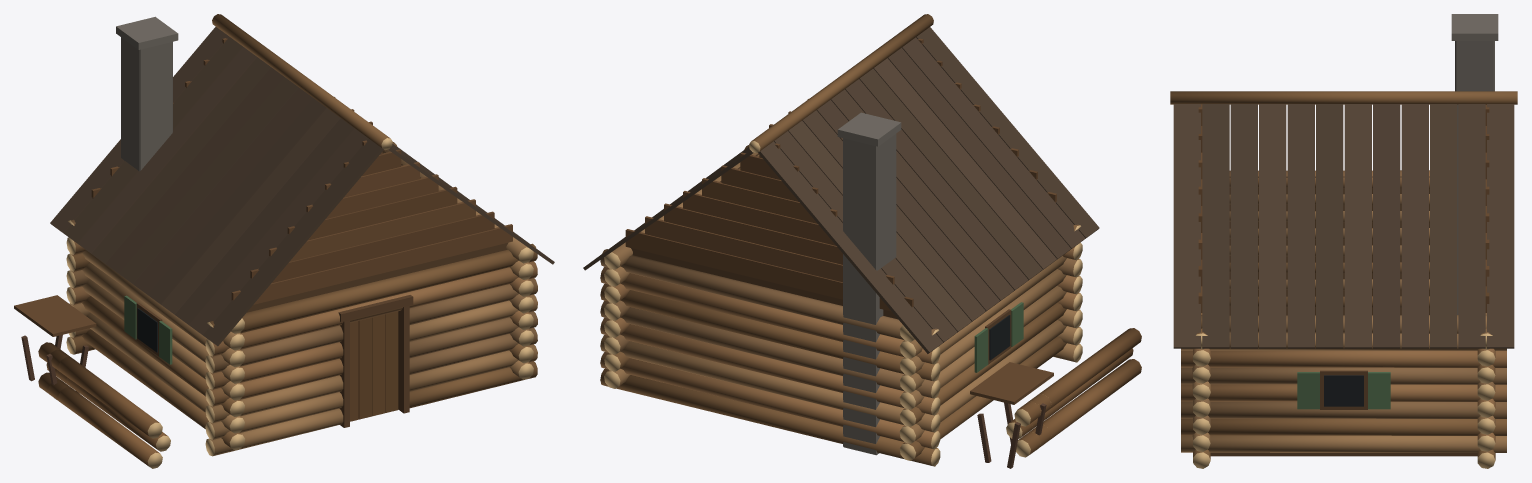
File: sawmill_1.glb
The picture shows the model from 3 angles, left to right: view 1: azimuth 30°, elevation 25°; view 2: azimuth 150°, elevation 25°; view 3: azimuth 270°, elevation 25°; orthographic projection. The views are drawn at different scales.
Parts seen in each view (by area): view 1: sawmill1_log, sawmill1_roof, sawmill1_wood, sawmill1_stone, sawmill1_glass; view 2: sawmill1_log, sawmill1_roof, sawmill1_wood, sawmill1_stone, sawmill1_glass; view 3: sawmill1_roof, sawmill1_log, sawmill1_wood, sawmill1_stone, sawmill1_glass.
Boxes of the visible parts, box(x1,y1,x2,y2) form: sawmill1_log: box(38, 14, 537, 468); sawmill1_roof: box(50, 26, 554, 346); sawmill1_wood: box(14, 38, 512, 427); sawmill1_stone: box(116, 16, 178, 171); sawmill1_glass: box(137, 308, 157, 352); sawmill1_log: box(600, 14, 1141, 466); sawmill1_roof: box(583, 27, 1099, 353); sawmill1_wood: box(625, 38, 1056, 468); sawmill1_stone: box(837, 112, 901, 455); sawmill1_glass: box(989, 315, 1010, 360); sawmill1_roof: box(1173, 104, 1514, 348); sawmill1_log: box(1170, 91, 1517, 468); sawmill1_wood: box(1198, 104, 1489, 456); sawmill1_stone: box(1451, 14, 1498, 314); sawmill1_glass: box(1324, 375, 1363, 406).
Size of the model in its own units: 8.27 by 6.18 by 6.1.
